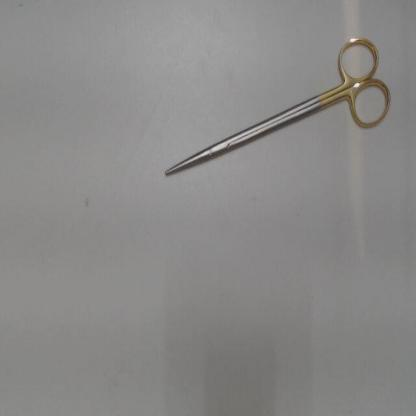7 Metzenbaum Scissors: (162, 29, 398, 180)
